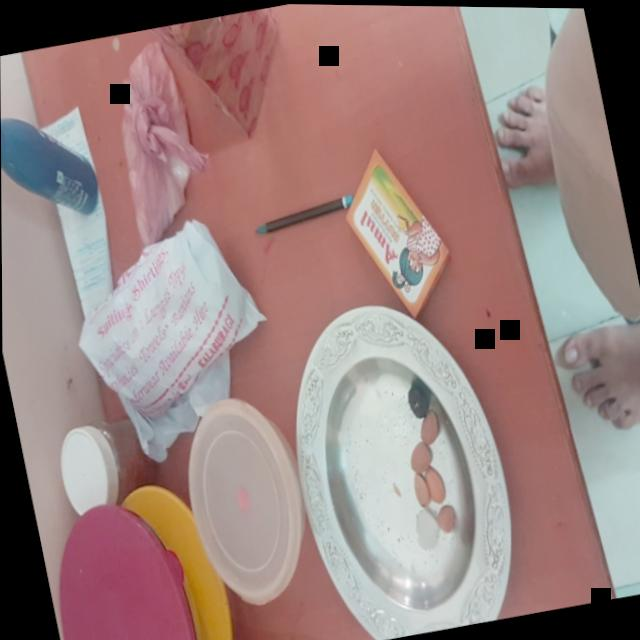butter: (331, 142, 458, 321)
